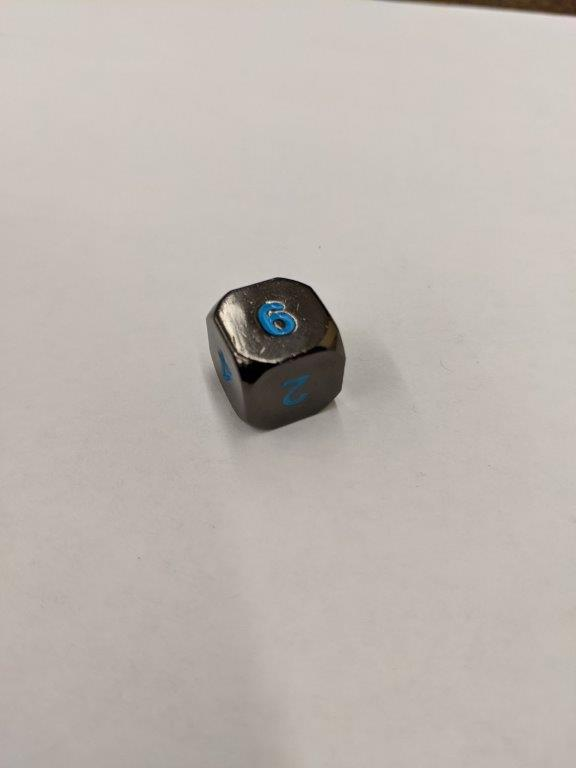d6-6: (206, 276, 347, 432)
